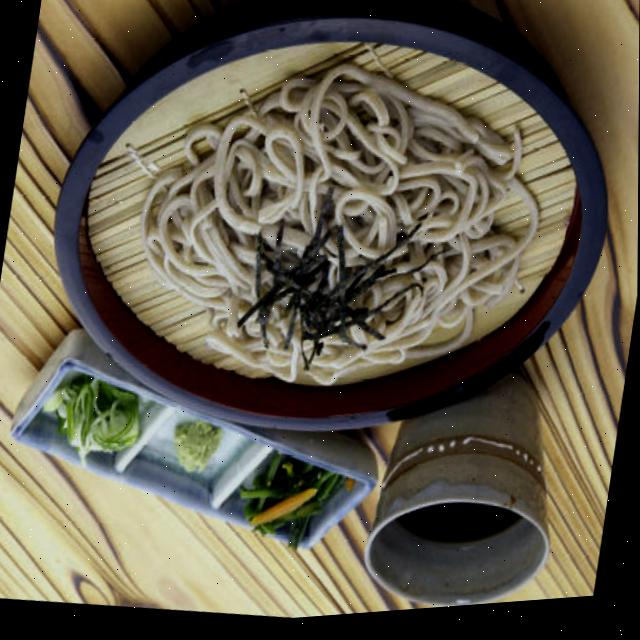面条主食: (8, 0, 640, 503)
